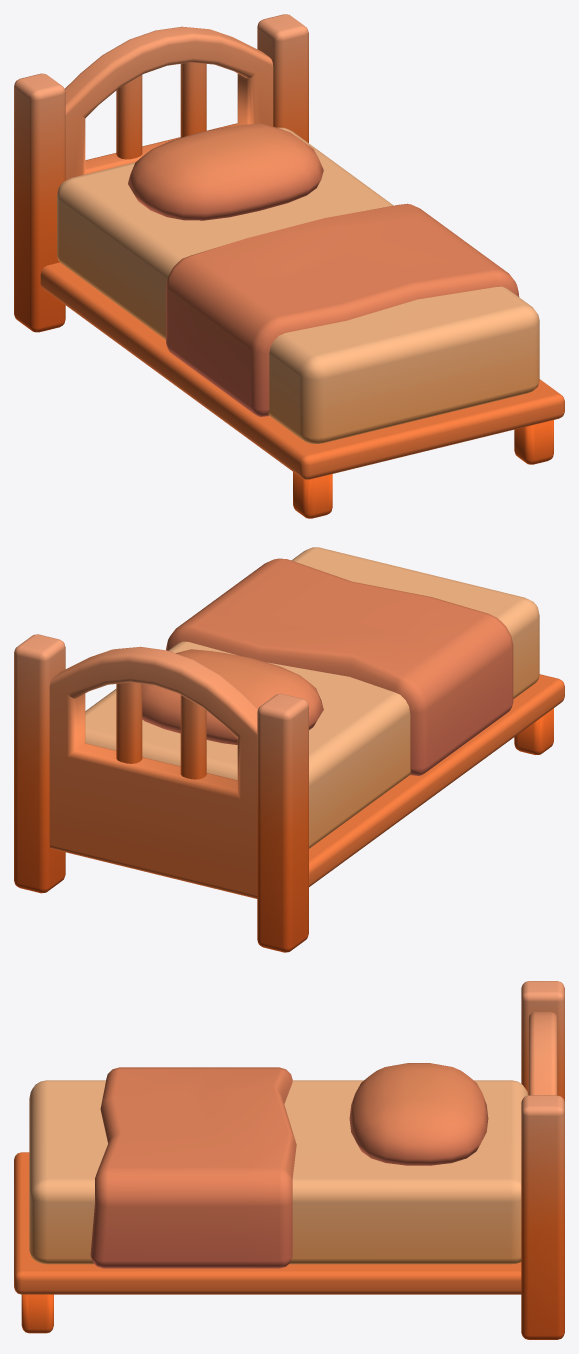
Rendered from Bed_05.glb.
3 views of the same model, one above another, from view 1: azimuth 30°, elevation 25°; view 2: azimuth 150°, elevation 25°; view 3: azimuth 270°, elevation 25° (orthographic). The views are drawn at different scales.
Visible parts, largest first — view 1: Bed_05; view 2: Bed_05; view 3: Bed_05.
Part boxes in pixels (x1,y1,x2,y2): Bed_05: (14, 14, 564, 518); Bed_05: (14, 547, 564, 952); Bed_05: (14, 981, 564, 1339).
Size of the model in its own units: 1.2 by 1.08 by 2.14.
1 material, 1 textured.
